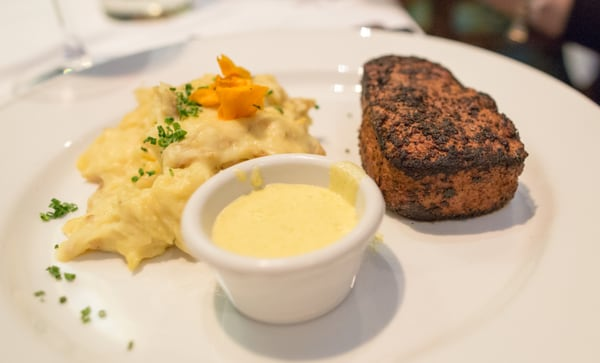curry: (143, 116, 188, 149), (39, 197, 79, 222)
sushi: (177, 153, 385, 326)
